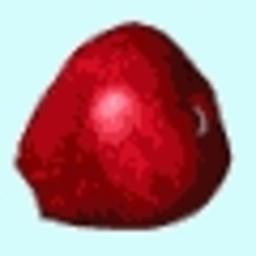apple: (14, 23, 230, 228)
